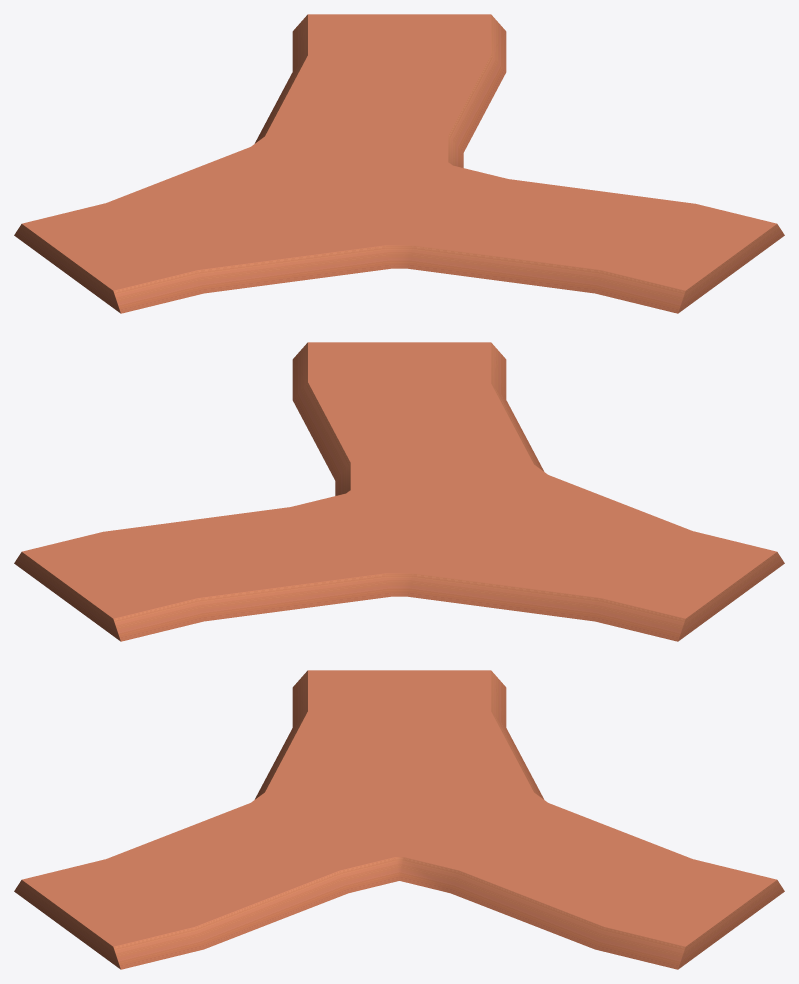
Rendered from path-intersection-f.glb.
The picture shows the model from 3 angles, top to bottom: view 1: azimuth 30°, elevation 25°; view 2: azimuth 150°, elevation 25°; view 3: azimuth 270°, elevation 25°; orthographic projection.
Visible parts, largest first — view 1: path-intersectionF; view 2: path-intersectionF; view 3: path-intersectionF.
Boxes of the visible parts, x1=… form: path-intersectionF: x1=14, y1=14, x2=784, y2=313; path-intersectionF: x1=14, y1=342, x2=784, y2=641; path-intersectionF: x1=14, y1=670, x2=784, y2=969.
Size of the model in its own units: 0.8709 by 0.025 by 1.01.
Materials: 1 (1 with a texture image).
